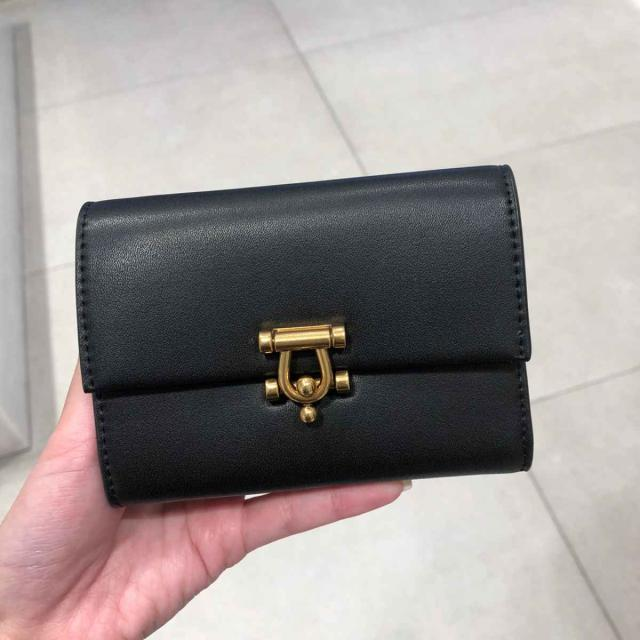Handbag: (72, 148, 551, 508)
